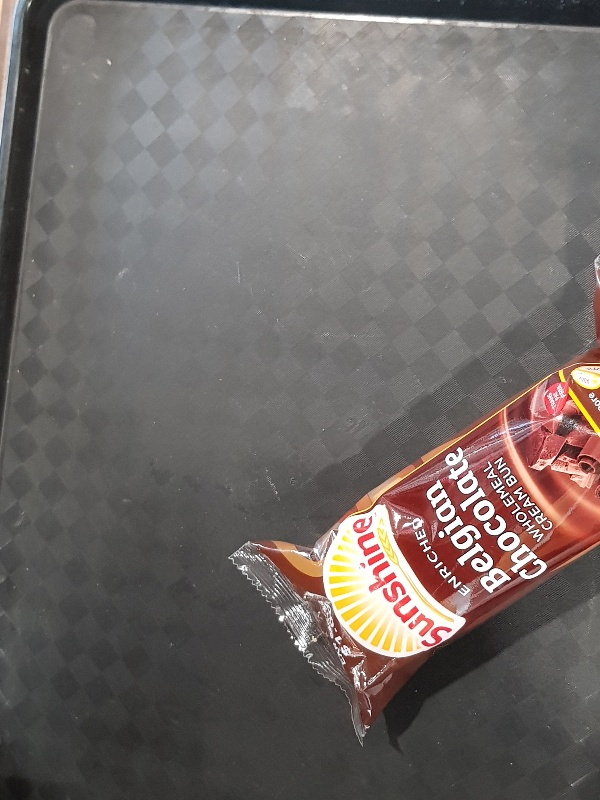Sunshine Belgium Chocolate Wholemeal Cream Bun: (223, 252, 600, 745)
